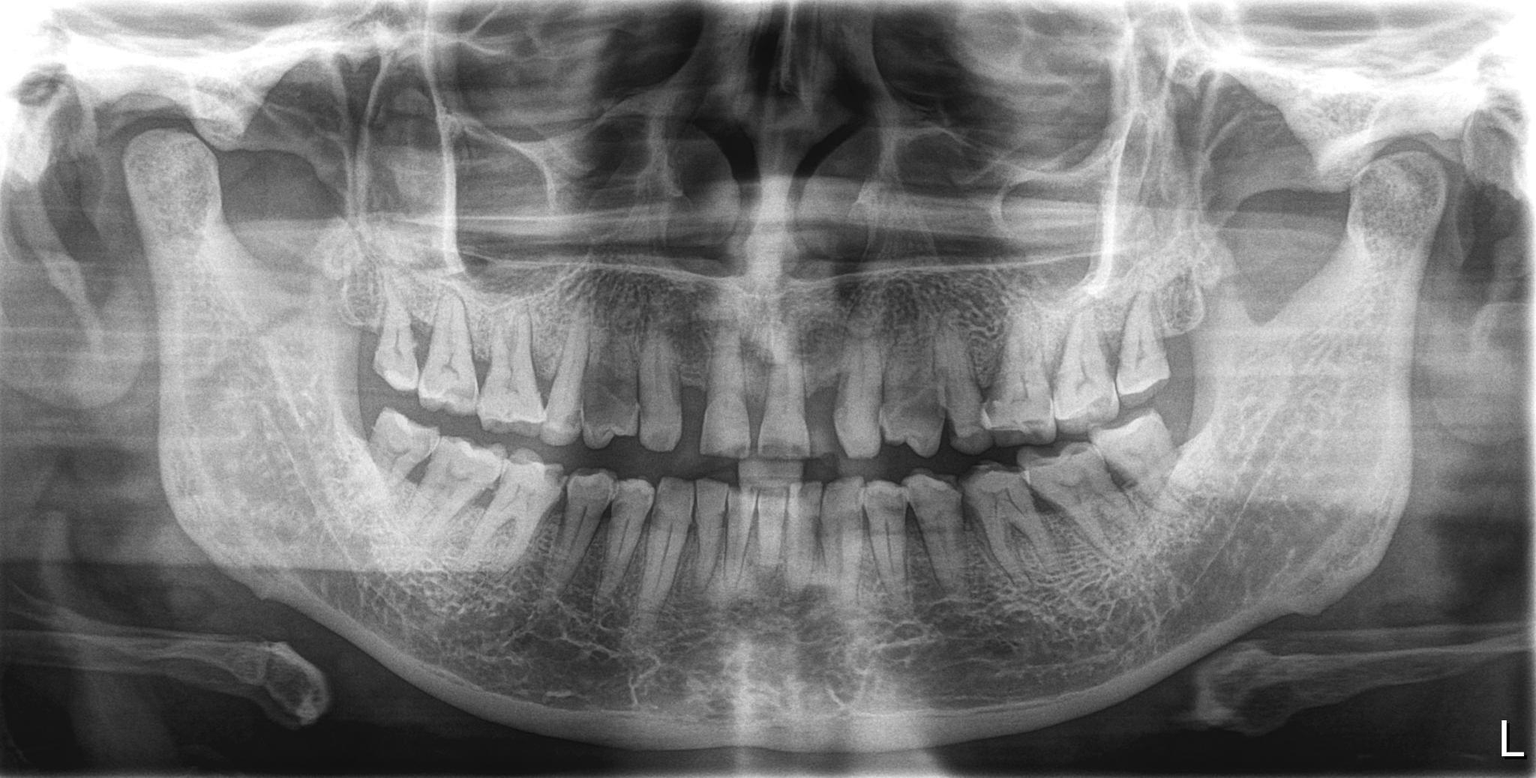Impacted Third Molar: (1123, 278, 1198, 398), (1095, 425, 1192, 500), (371, 418, 436, 502), (379, 290, 418, 397)
